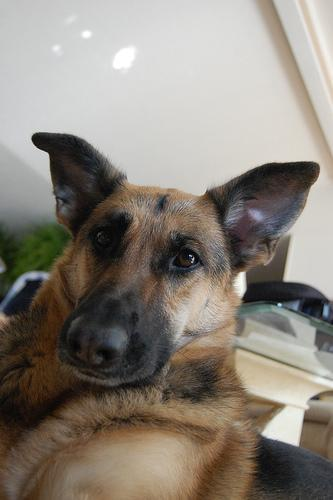German_shepherd: (2, 128, 324, 498)
